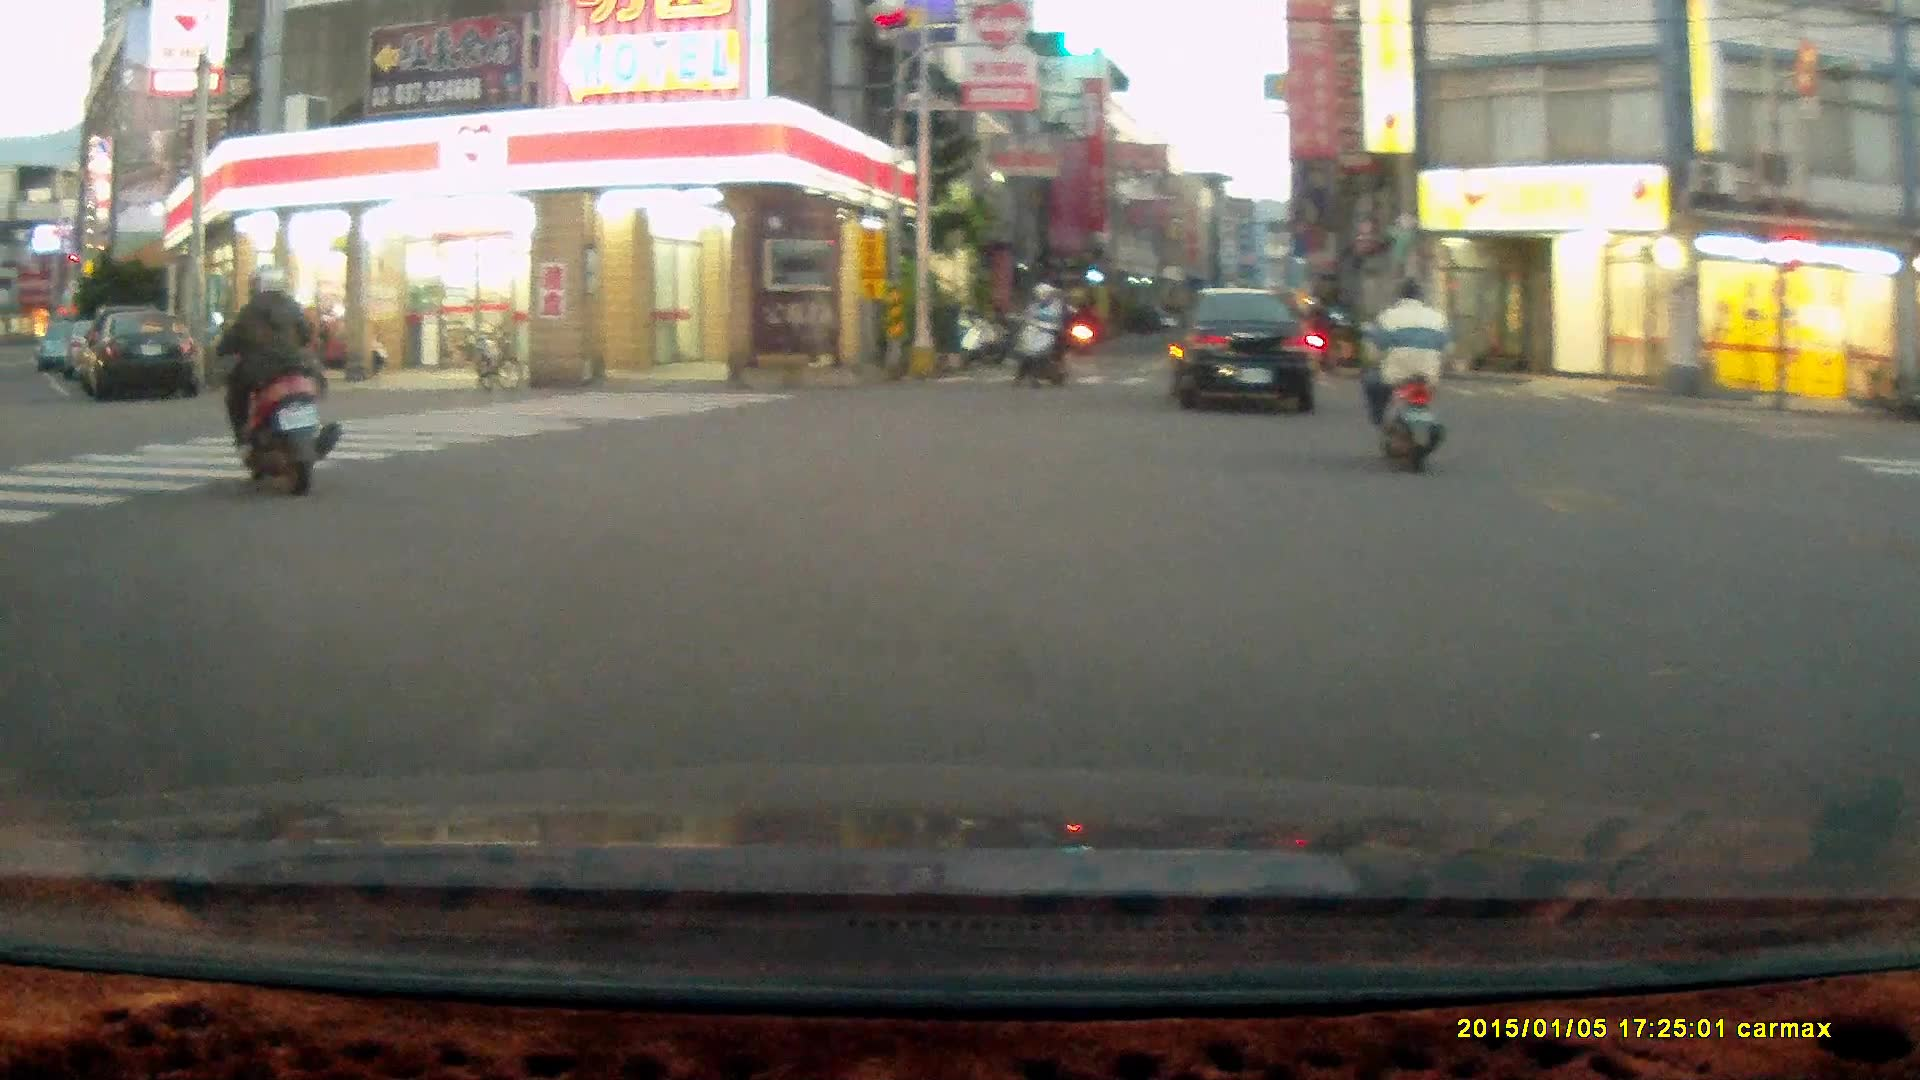rider: (209, 265, 341, 497), (1362, 276, 1453, 475), (1013, 280, 1072, 388)
vehicle: (1170, 284, 1320, 418), (92, 308, 211, 400)
